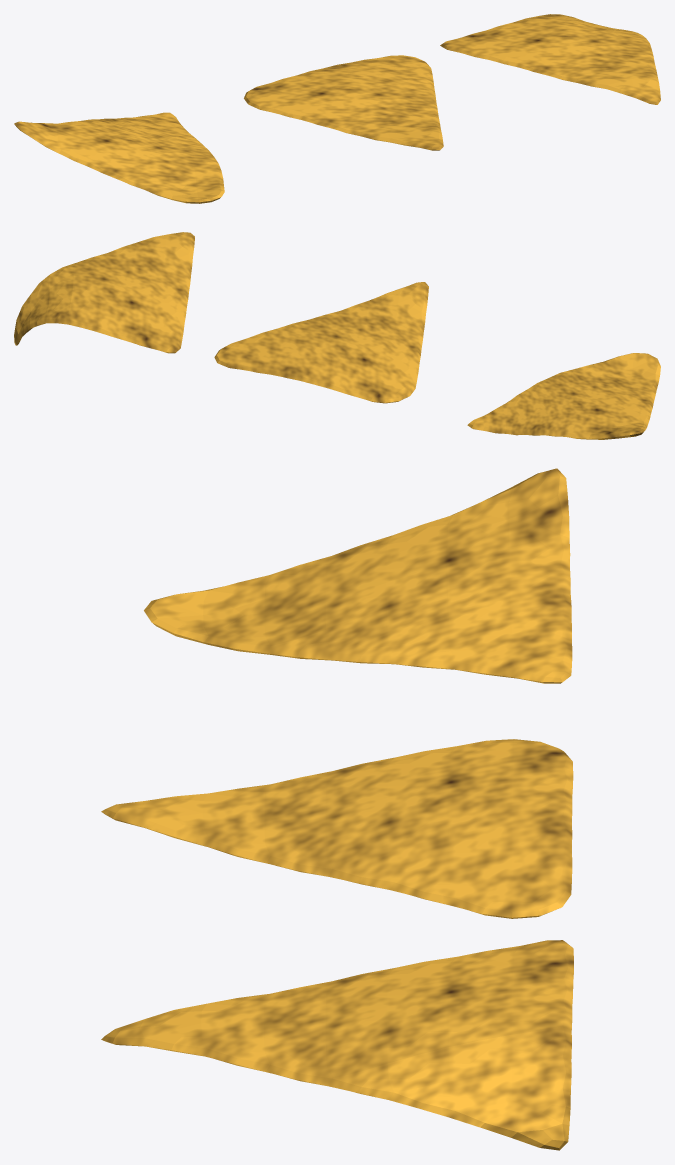
Rendered from nacho.glb.
3 renders of one model, top to bottom at view 1: azimuth 30°, elevation 25°; view 2: azimuth 150°, elevation 25°; view 3: azimuth 270°, elevation 25°, orthographic. The views are drawn at different scales.
Parts seen in each view (by area): view 1: Nacho1, Nacho3, Nacho2; view 2: Nacho1, Nacho2, Nacho3; view 3: Nacho2, Nacho3, Nacho1.
Part boxes in pixels (x1,y1,x2,y2): Nacho1: (244,55,443,150); Nacho3: (14,112,224,203); Nacho2: (440,14,660,104); Nacho1: (214,282,428,403); Nacho2: (14,232,194,353); Nacho3: (467,353,660,439); Nacho2: (101,940,573,1150); Nacho3: (144,468,572,683); Nacho1: (101,739,573,918).
Bounding box in the file's own units: 5.49 × 0.5277 × 1.9.
1 material, 1 textured.
